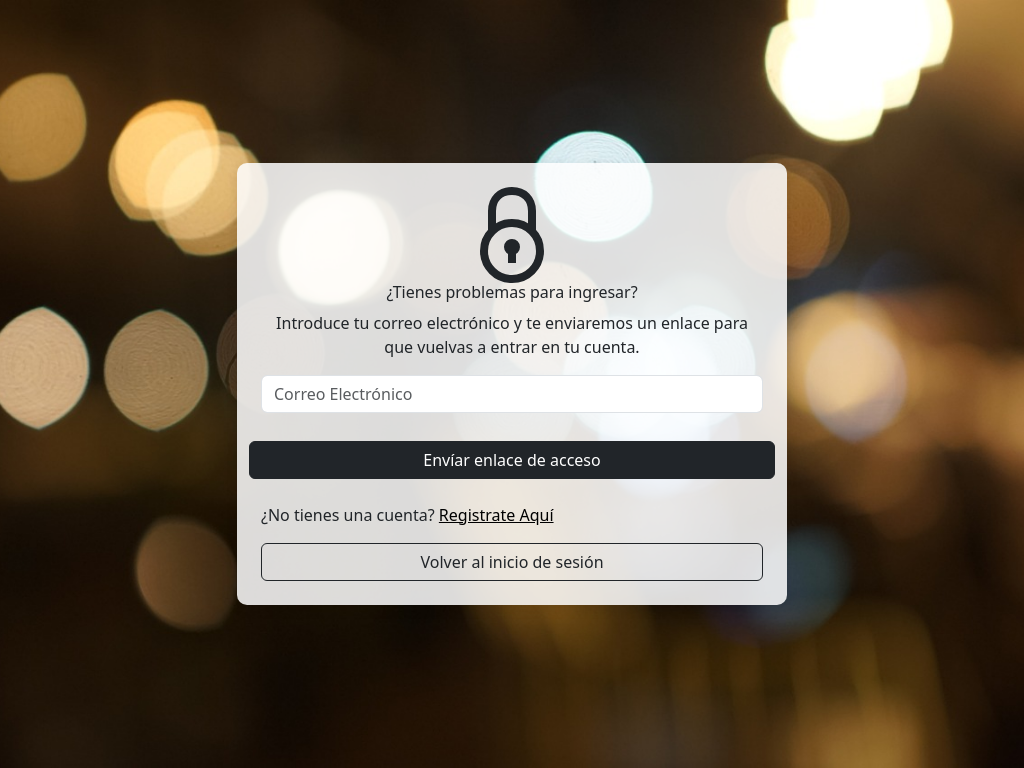
Recuperar contraseña test › Manejo correcto de errores al envíar un correo no institucional
In the field with placeholder "Correo Electrónico": (512, 394) [261,375,763,413], type "dilan@hotmail.com"
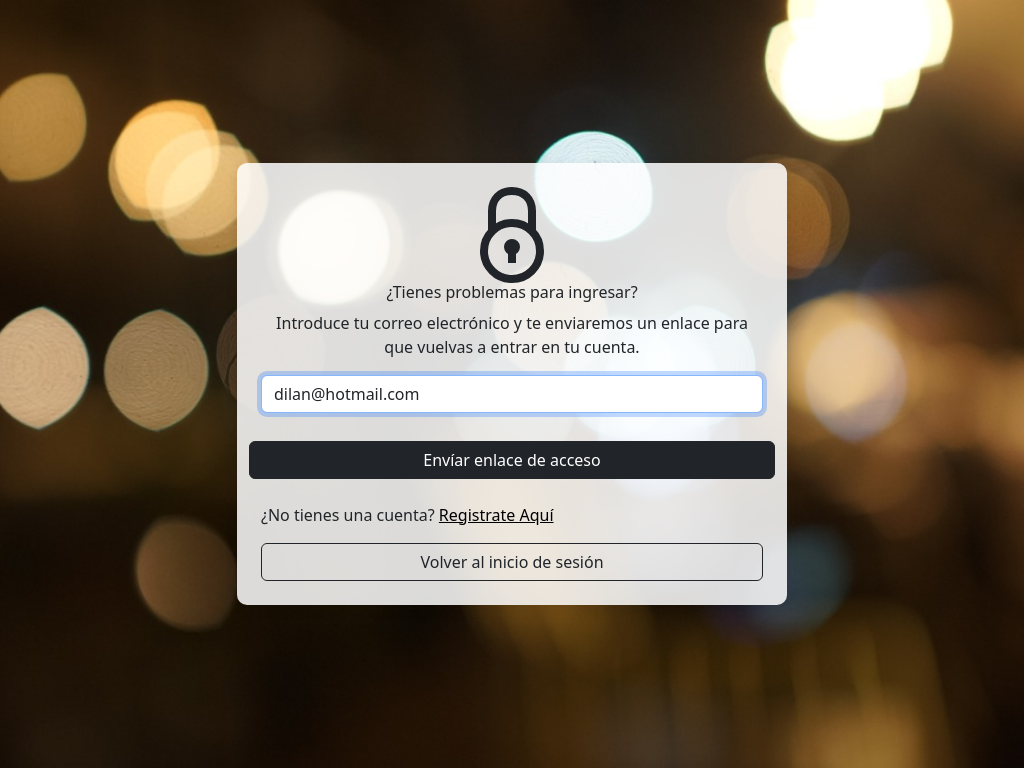
Click the button "Envíar enlace de acceso": (512, 460) [249,441,775,479]
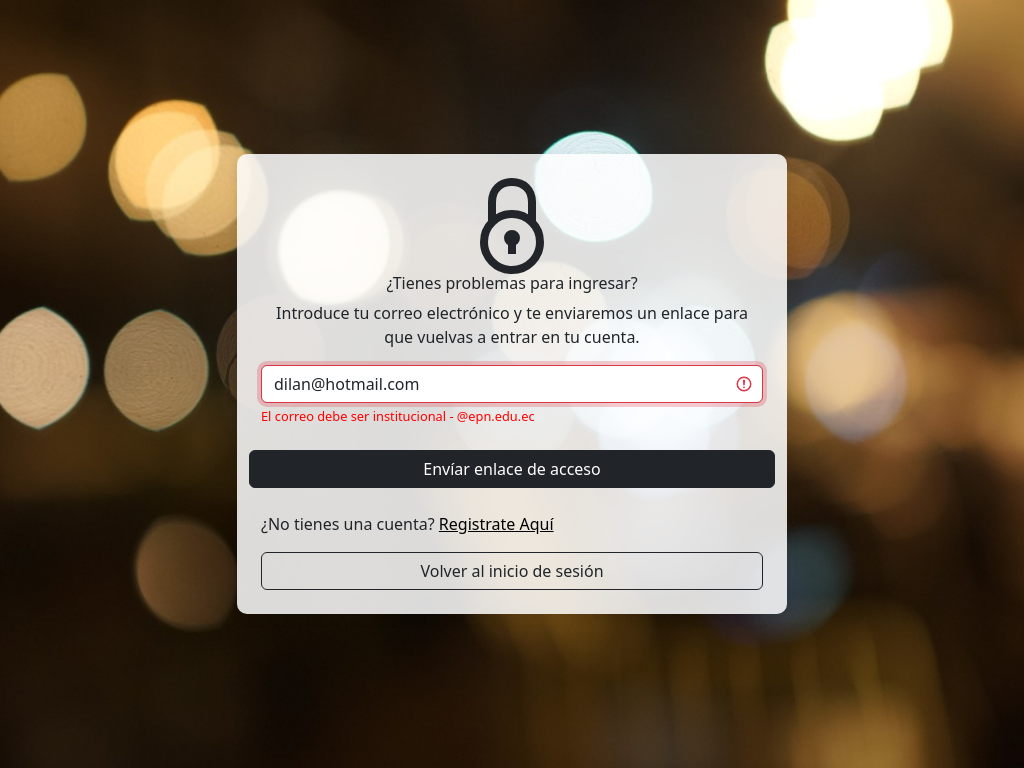
Expected: the text "El correo debe ser institucional - @epn.edu.ec" is shown, [261,407,534,425]
